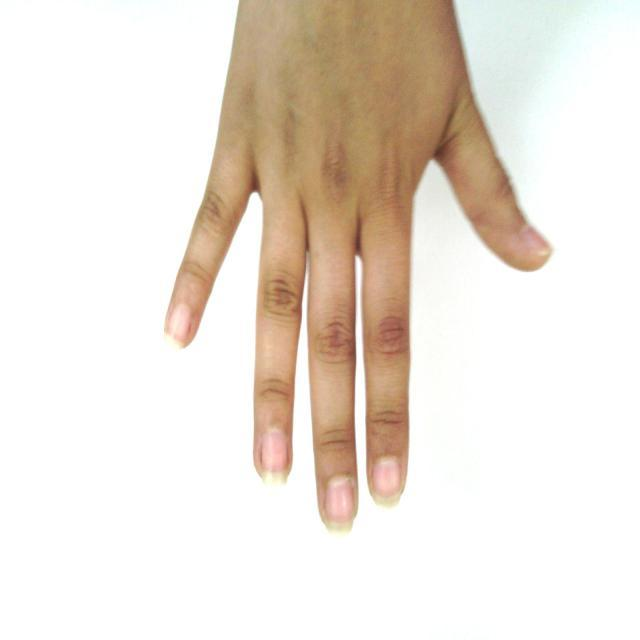Fingernail: (325, 477, 354, 533), (372, 458, 403, 508), (261, 432, 288, 485), (165, 305, 193, 350), (521, 226, 554, 255)
